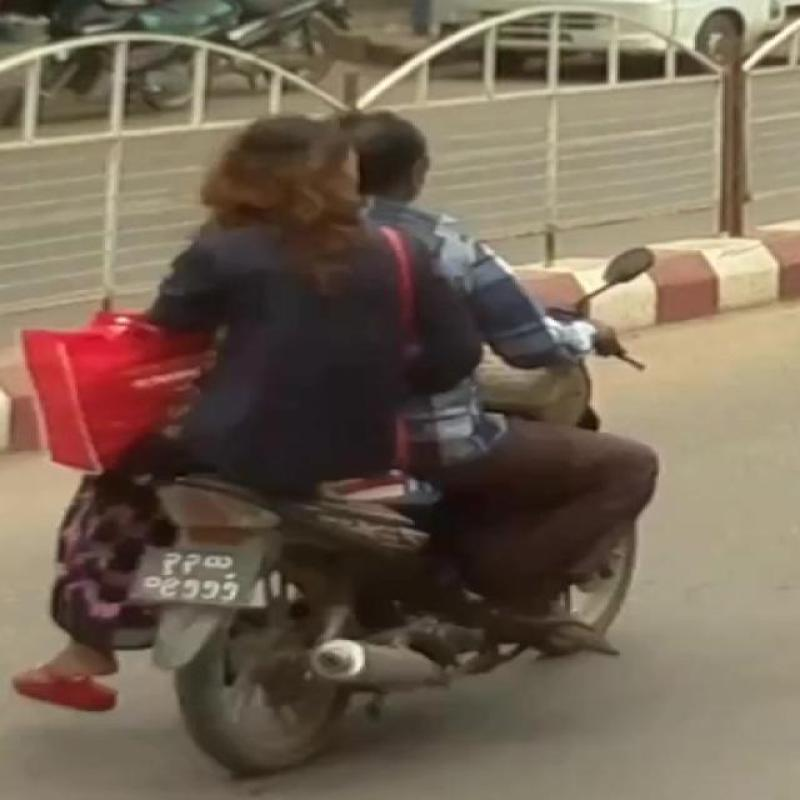nohelmet: (211, 104, 404, 264)
